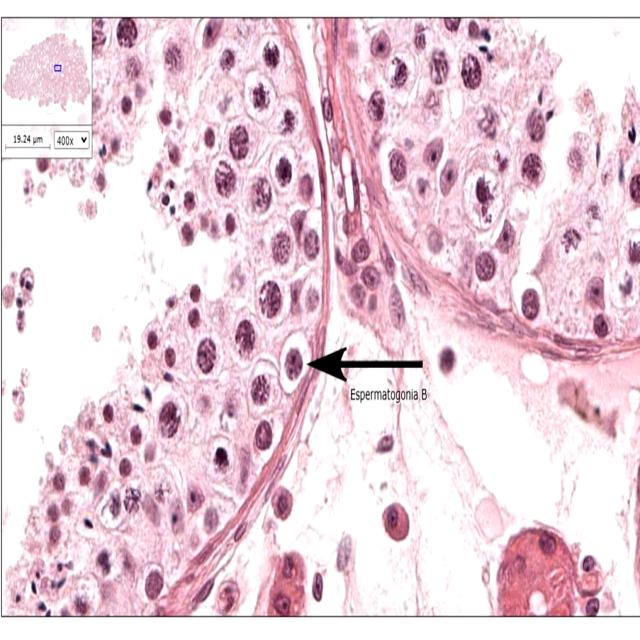Clase 10: (496, 529, 575, 615), (468, 101, 526, 168), (266, 328, 319, 396), (202, 372, 257, 437), (461, 167, 509, 235), (568, 553, 613, 616), (203, 432, 241, 487), (468, 494, 510, 542), (250, 410, 287, 459), (248, 360, 281, 414), (241, 172, 278, 219), (254, 276, 289, 324), (244, 71, 276, 122), (269, 145, 298, 198), (431, 156, 465, 199), (121, 52, 150, 101), (274, 95, 305, 139), (382, 282, 409, 331), (384, 53, 417, 92), (381, 501, 411, 542), (159, 37, 189, 77), (456, 51, 485, 92), (211, 158, 239, 200), (418, 133, 448, 171), (156, 399, 183, 439), (493, 218, 521, 256), (300, 273, 323, 316), (356, 261, 387, 292), (562, 144, 590, 178), (234, 317, 256, 360), (346, 235, 376, 266), (276, 551, 306, 581), (469, 174, 496, 206), (216, 580, 240, 615), (195, 337, 217, 375), (519, 286, 542, 322), (228, 124, 251, 160), (270, 229, 293, 265), (520, 152, 544, 186), (199, 18, 223, 50), (92, 18, 111, 58), (588, 311, 614, 340), (271, 486, 293, 520), (474, 250, 496, 282), (429, 49, 449, 84), (365, 89, 386, 122), (622, 230, 640, 267), (144, 568, 164, 601), (289, 209, 307, 245), (526, 107, 545, 141), (389, 148, 408, 182), (116, 18, 138, 47), (370, 29, 392, 58), (585, 276, 604, 309), (270, 590, 293, 617), (251, 374, 270, 405), (437, 346, 457, 375), (186, 482, 205, 512), (262, 39, 281, 69), (274, 156, 292, 187), (254, 419, 272, 450), (280, 107, 298, 136), (17, 266, 37, 292), (303, 229, 320, 259), (298, 173, 314, 203), (538, 530, 557, 555), (427, 227, 444, 254), (411, 24, 428, 51), (202, 507, 219, 534), (577, 553, 598, 574), (213, 446, 229, 472), (181, 190, 199, 213), (50, 469, 67, 492), (311, 572, 324, 601), (219, 48, 235, 71), (376, 433, 394, 453), (157, 106, 174, 127), (629, 173, 640, 204), (101, 402, 116, 423), (224, 212, 237, 236), (78, 465, 91, 486), (585, 597, 599, 616), (203, 126, 215, 148), (120, 95, 133, 115), (443, 18, 461, 32), (119, 457, 132, 476), (467, 20, 480, 38), (36, 158, 50, 172)
Clase 7: (320, 19, 640, 347), (496, 529, 574, 615), (158, 101, 221, 149), (268, 550, 308, 616), (552, 372, 598, 427), (573, 553, 609, 615), (468, 494, 511, 543), (2, 267, 34, 332), (78, 166, 111, 219), (379, 500, 413, 543), (432, 156, 465, 199), (469, 173, 501, 215), (418, 133, 449, 172), (384, 282, 408, 331), (327, 245, 359, 279), (160, 38, 188, 76), (474, 103, 502, 141), (493, 218, 521, 256), (258, 279, 283, 320), (233, 317, 257, 359), (157, 400, 182, 439), (346, 235, 376, 266), (269, 229, 294, 266), (199, 15, 224, 51), (141, 567, 166, 602), (356, 262, 385, 292), (556, 225, 584, 256), (216, 579, 240, 615), (519, 152, 545, 185), (334, 532, 355, 572), (196, 337, 217, 375), (228, 124, 250, 160), (460, 54, 482, 89), (115, 18, 139, 49), (429, 49, 449, 85), (369, 29, 392, 59), (474, 251, 496, 282), (272, 486, 292, 520), (278, 107, 300, 137), (526, 107, 545, 141), (250, 374, 270, 406), (389, 148, 407, 182), (390, 56, 408, 89), (285, 348, 303, 380), (521, 288, 539, 320), (366, 91, 385, 121), (437, 345, 456, 375), (254, 419, 272, 450), (186, 482, 205, 511), (251, 82, 270, 111), (303, 229, 320, 260), (281, 553, 301, 579), (202, 506, 220, 534), (17, 266, 36, 292), (349, 283, 367, 309), (263, 41, 280, 68), (592, 312, 609, 338), (374, 433, 396, 453), (298, 174, 313, 202), (320, 95, 335, 122), (117, 94, 135, 115), (157, 106, 174, 127), (220, 48, 235, 71), (629, 173, 640, 204), (580, 554, 597, 574), (23, 171, 34, 201), (312, 572, 323, 601), (2, 283, 15, 307), (628, 240, 640, 265), (224, 212, 236, 236), (84, 198, 97, 219), (34, 180, 49, 198), (585, 597, 599, 616), (146, 329, 158, 350), (19, 367, 31, 388), (189, 284, 201, 304), (12, 386, 24, 405), (12, 406, 25, 423), (36, 157, 50, 172), (367, 293, 378, 312), (16, 309, 25, 332), (91, 324, 101, 342), (2, 379, 5, 396), (54, 65, 61, 72)
